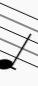LC: (0, 3, 32, 72)
